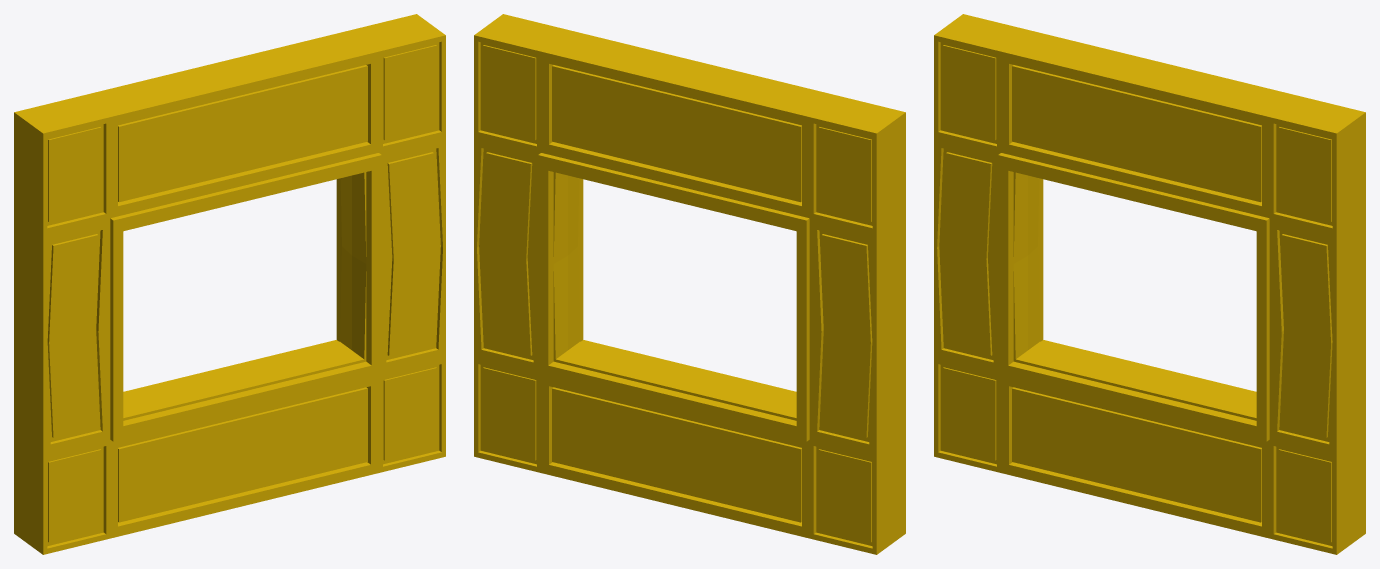
File: wall_window_small.fbx
3 views of the same model, side by side, from view 1: azimuth 30°, elevation 25°; view 2: azimuth 150°, elevation 25°; view 3: azimuth 330°, elevation 25° (orthographic).
Parts seen in each view (by area): view 1: wall_window.002; view 2: wall_window.002; view 3: wall_window.002.
Boxes of the visible parts, <box> form: wall_window.002: <box>14,14,445,554</box>; wall_window.002: <box>474,14,905,554</box>; wall_window.002: <box>934,14,1365,554</box>.
Bounding box in the file's own units: 400 × 400 × 60.62.
